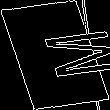M_W: (8, 27, 102, 83)
